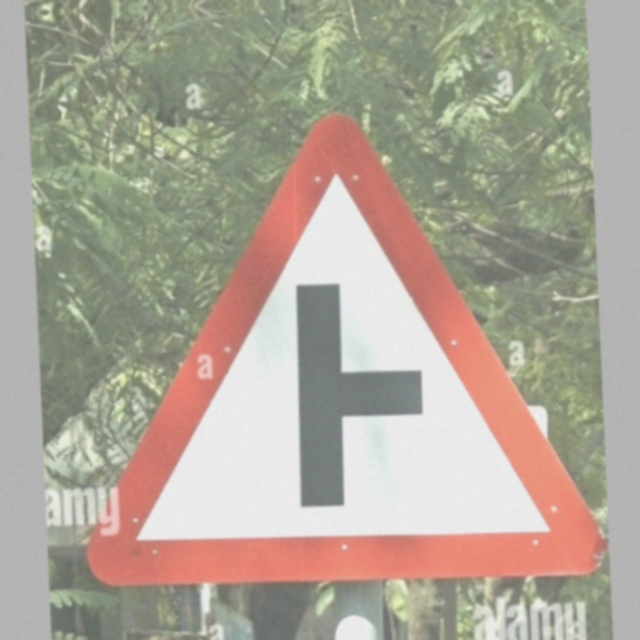Side_Road_Right: (93, 89, 589, 588)
